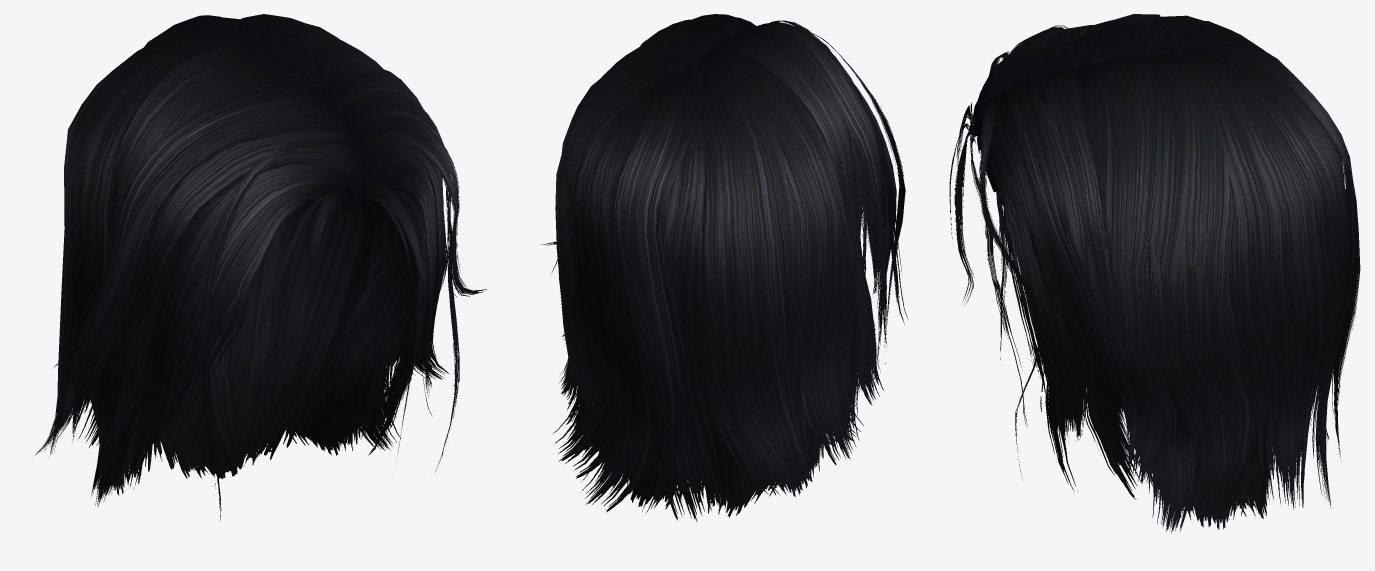
The model's file is haircut.fbx.
The picture shows the model from 3 angles, left to right: view 1: azimuth 30°, elevation 25°; view 2: azimuth 150°, elevation 25°; view 3: azimuth 270°, elevation 25°; orthographic projection. The views are drawn at different scales.
Parts seen in each view (by area): view 1: Head; view 2: Head; view 3: Head.
Part boxes in pixels (x1,y1,x2,y2): Head: [35, 14, 486, 520]; Head: [541, 14, 907, 521]; Head: [949, 14, 1360, 533].
Size of the model in its own units: 0.2808 by 0.3041 by 0.2332.
1 material, 1 textured.
